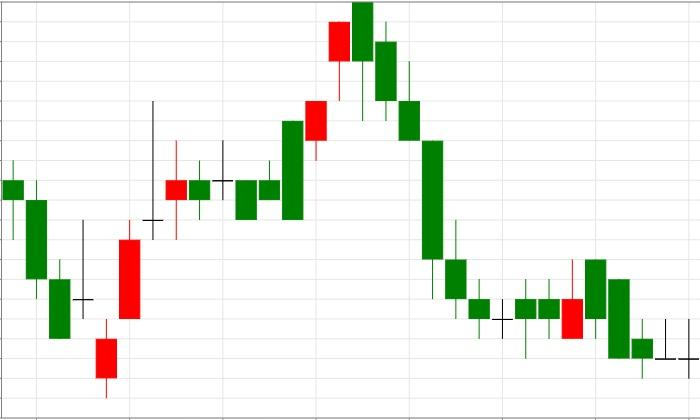three_black_crows_fall: (282, 2, 443, 299)
